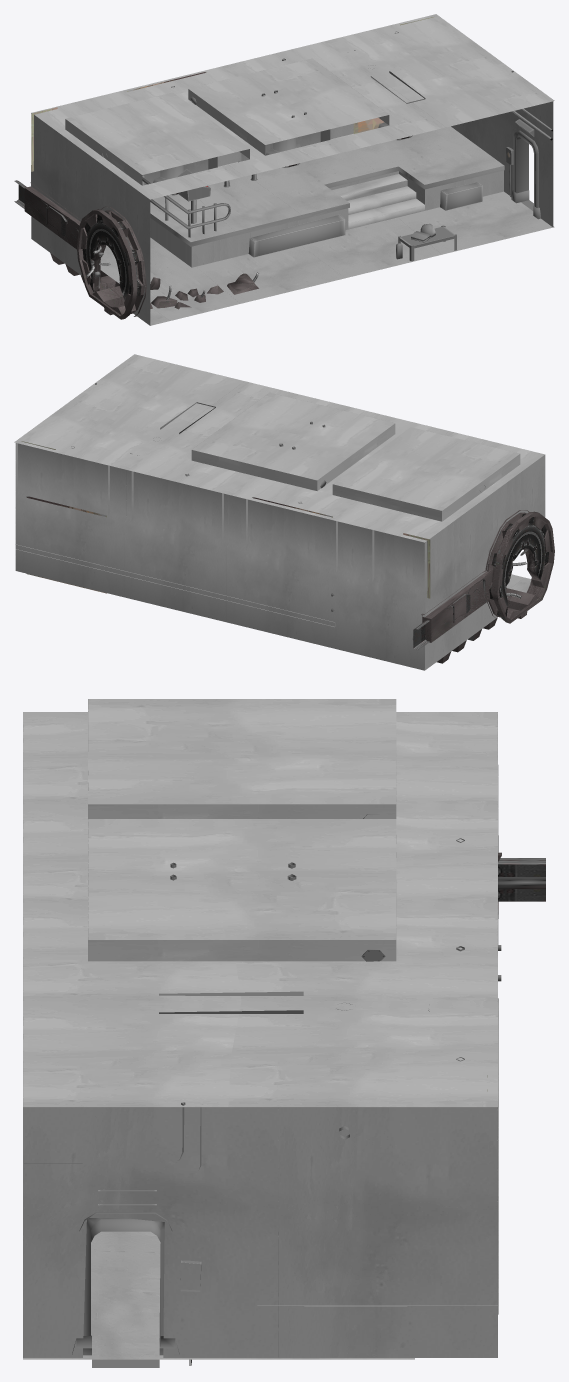
Rendered from MSH_QuestVault_L5_R2_optimized.fbx.
3 renders of one model, top to bottom at view 1: azimuth 30°, elevation 25°; view 2: azimuth 150°, elevation 25°; view 3: azimuth 270°, elevation 25°, orthographic. The views are drawn at different scales.
Visible parts, largest first — view 1: lightmap1, lightmap0, lightmap3, lightmap2, MSH_QuestVault_L5_R2_dirt_01; view 2: lightmap3, lightmap1, lightmap2, lightmap0, MSH_QuestVault_L5_R2_dirt_01; view 3: lightmap1, lightmap3, lightmap0.
Part boxes in pixels (box(x1,y1,x2,y2)): lightmap1: box(31, 14, 554, 325); lightmap0: box(14, 31, 540, 309); lightmap3: box(31, 101, 553, 325); lightmap2: box(24, 182, 152, 319); MSH_QuestVault_L5_R2_dirt_01: box(31, 17, 433, 171); lightmap3: box(15, 443, 545, 670); lightmap1: box(14, 354, 548, 663); lightmap2: box(421, 510, 554, 642); lightmap0: box(15, 402, 527, 650); MSH_QuestVault_L5_R2_dirt_01: box(21, 441, 430, 598); lightmap1: box(23, 699, 497, 1359); lightmap3: box(23, 765, 498, 1357); lightmap0: box(72, 858, 545, 1367).
Size of the model in its own units: 21.09 by 6.8 by 11.01.
